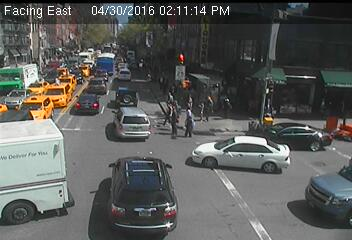neg: (213, 147, 243, 188), (51, 24, 80, 62), (122, 159, 143, 187), (282, 132, 303, 159), (42, 132, 62, 159), (134, 27, 153, 54), (183, 41, 202, 66), (22, 81, 40, 105), (105, 59, 122, 82), (68, 91, 84, 113), (313, 83, 329, 105), (294, 35, 310, 56), (265, 80, 280, 101)
pos: (198, 93, 220, 122), (183, 115, 200, 138), (165, 91, 177, 107), (186, 92, 198, 107), (184, 106, 194, 119)
